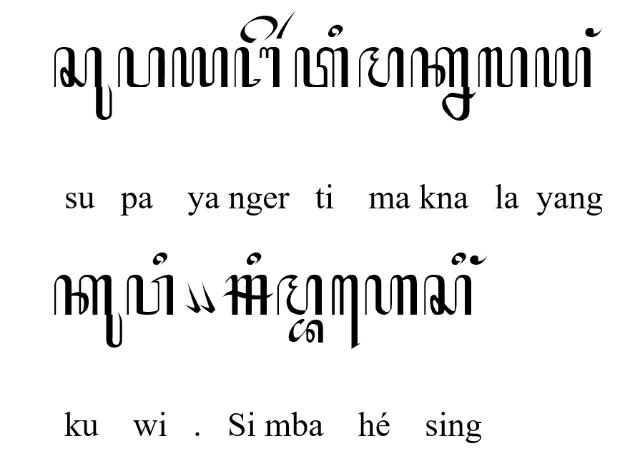S: (222, 274, 274, 316)
_b: (288, 318, 324, 344)
_r1: (276, 10, 296, 38)
e: (240, 14, 278, 44)
e1: (332, 274, 361, 350)
h: (364, 275, 418, 315)
i: (246, 252, 262, 266), (329, 24, 343, 38), (153, 252, 167, 266), (452, 252, 466, 266)
kn: (410, 46, 476, 122)
kom: (198, 282, 216, 314), (185, 283, 201, 315)
ku: (54, 275, 122, 349)
l: (478, 46, 528, 88)
m: (358, 46, 404, 88), (277, 274, 323, 316)
ng: (585, 27, 603, 37), (470, 255, 488, 265)
nga: (233, 46, 281, 88)
p: (117, 46, 165, 88)
s: (424, 275, 472, 317)
su: (54, 46, 112, 120)
t: (294, 48, 348, 88)
w: (126, 275, 174, 315)
y: (172, 48, 228, 88), (535, 47, 591, 87)
